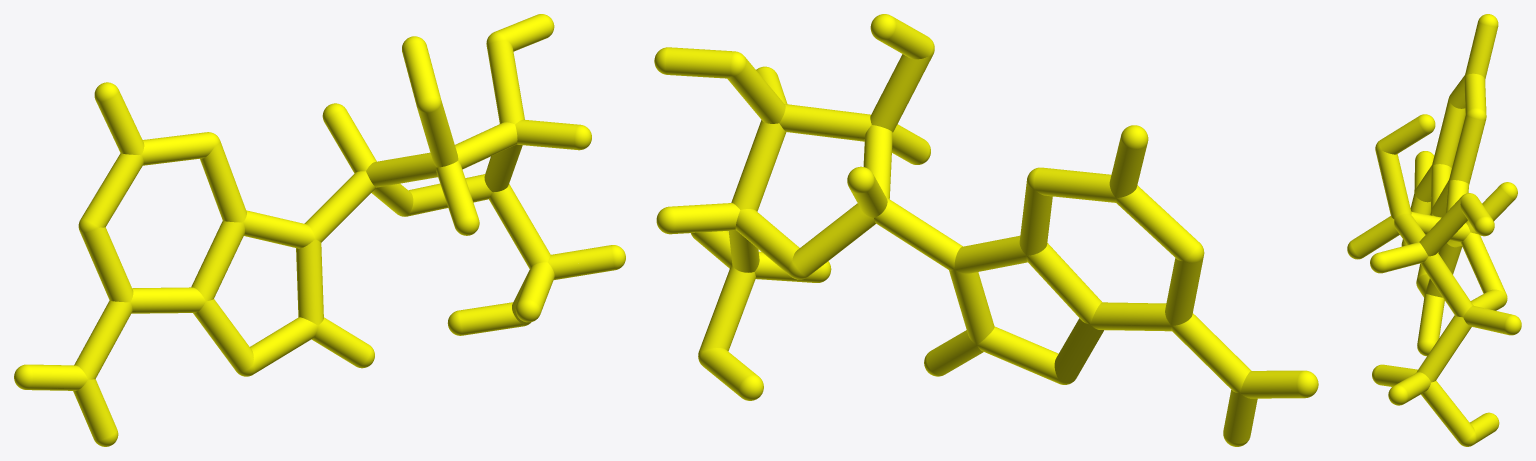
Rendered from adenosine.glb.
3 renders of one model, left to right at view 1: azimuth 30°, elevation 25°; view 2: azimuth 150°, elevation 25°; view 3: azimuth 270°, elevation 25°, orthographic. The views are drawn at different scales.
Visible parts, largest first — view 1: bonds, atoms; view 2: bonds, atoms; view 3: bonds, atoms.
Boxes of the visible parts, box(x1,y1,x2,y2) form: bonds: box(28, 14, 614, 440); atoms: box(14, 14, 625, 446); bonds: box(665, 17, 1303, 443); atoms: box(654, 14, 1318, 446); bonds: box(1351, 22, 1514, 444); atoms: box(1347, 14, 1521, 446).
Size of the model in its own units: 10.71 by 5.99 by 3.34.
